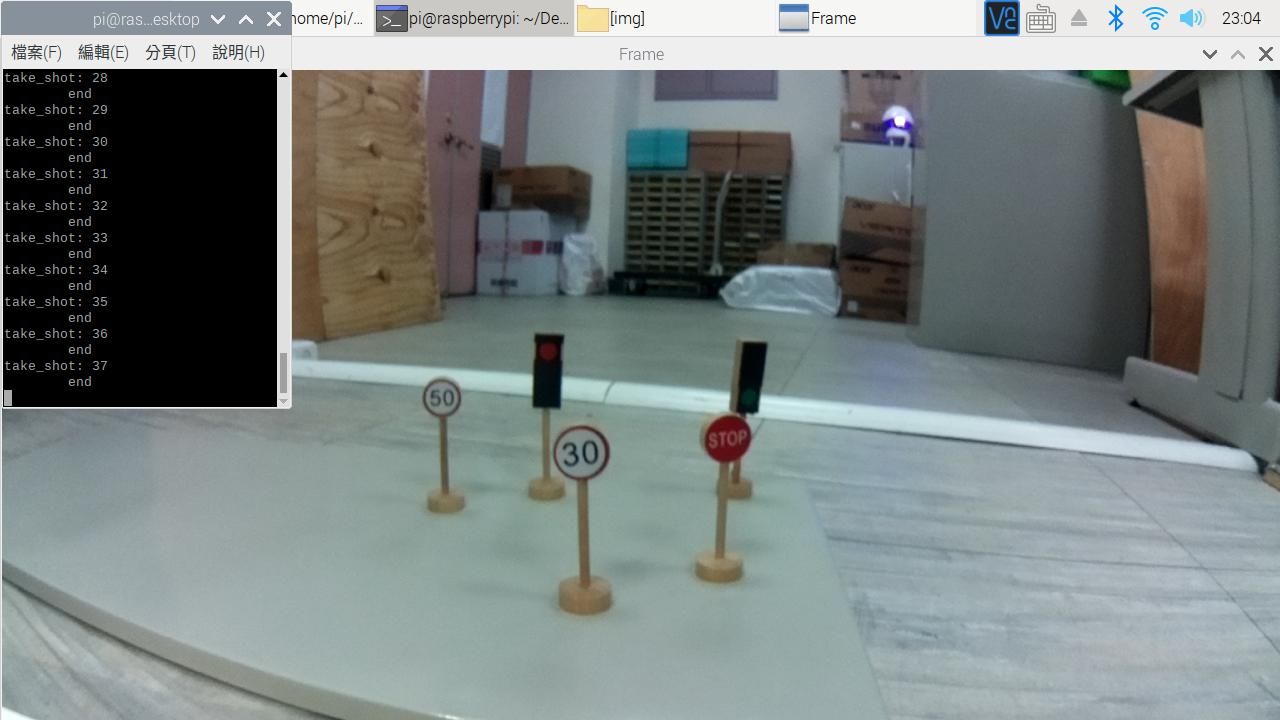Green: (737, 344, 763, 417)
Red: (531, 333, 563, 408)
Speed30: (559, 427, 601, 474)
Speed50: (420, 383, 458, 416)
Stop: (702, 416, 757, 467)
